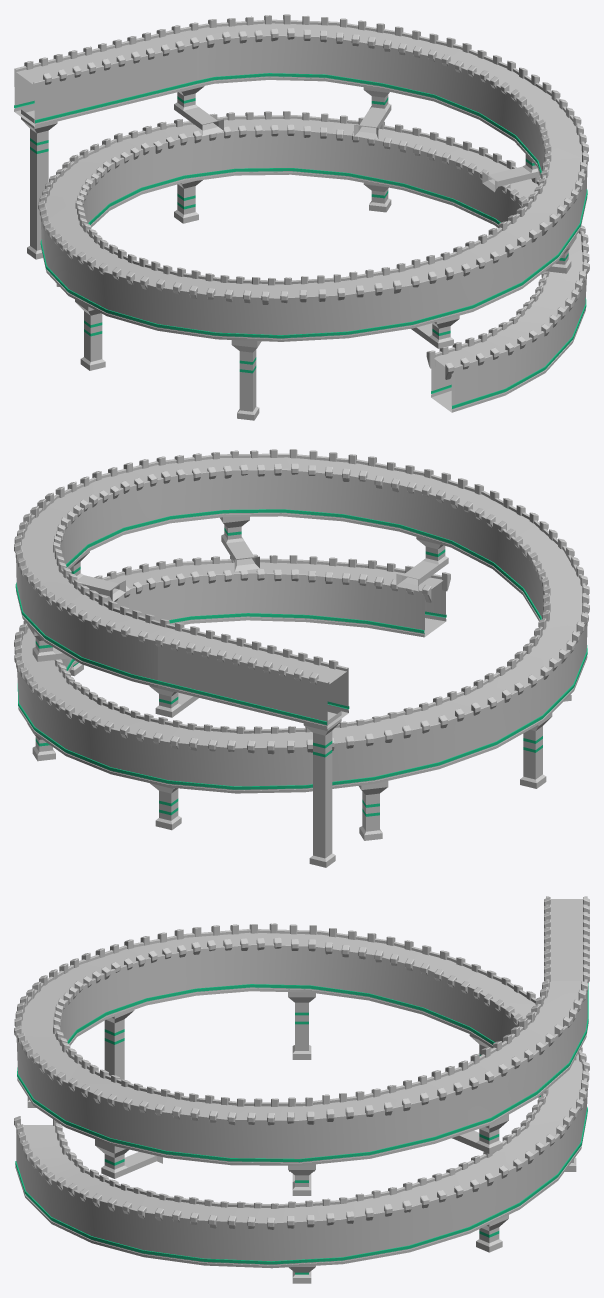
Rendered from Tower_mega_wall_spiral.fbx.
3 renders of one model, top to bottom at view 1: azimuth 30°, elevation 25°; view 2: azimuth 150°, elevation 25°; view 3: azimuth 270°, elevation 25°, orthographic. The views are drawn at different scales.
Parts seen in each view (by area): view 1: Tower_mega_wall_spiral; view 2: Tower_mega_wall_spiral; view 3: Tower_mega_wall_spiral.
Part boxes in pixels (<box>): Tower_mega_wall_spiral: <box>14,14,589,420</box>; Tower_mega_wall_spiral: <box>14,449,589,867</box>; Tower_mega_wall_spiral: <box>14,896,589,1283</box>.
Bounding box in the file's own units: 1929 × 719 × 1926.
